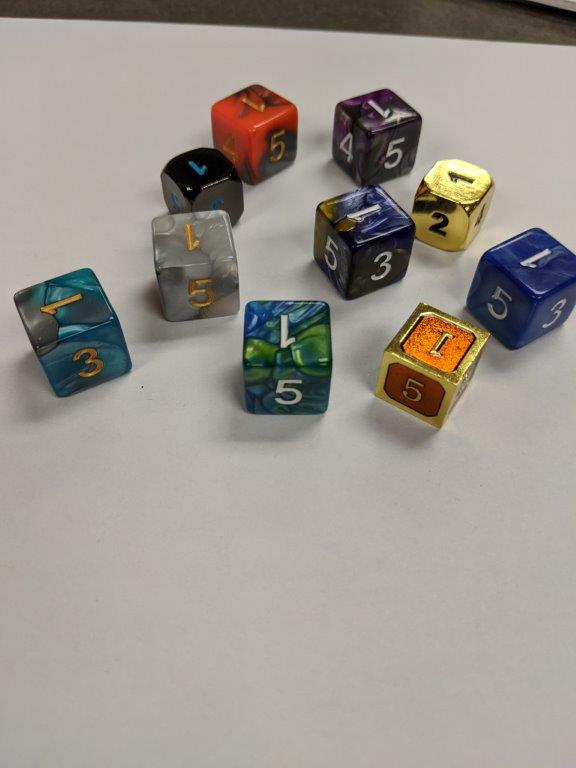d6-1: (13, 264, 133, 398), (461, 223, 576, 353), (376, 301, 491, 430), (313, 181, 417, 297), (239, 298, 333, 420), (150, 208, 243, 325), (210, 83, 299, 188), (329, 90, 423, 184), (410, 154, 496, 251), (158, 148, 241, 228)
